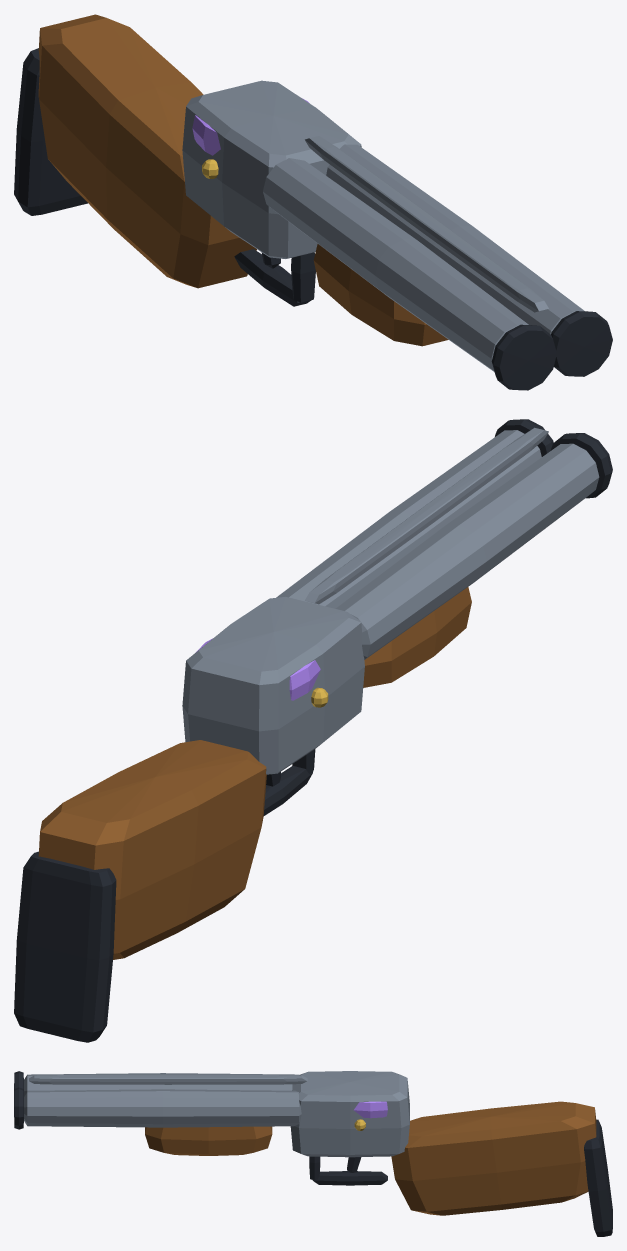
The model's file is g-shotgun-1.glb.
The picture shows the model from 3 angles, top to bottom: view 1: azimuth 30°, elevation 25°; view 2: azimuth 150°, elevation 25°; view 3: azimuth 270°, elevation 25°; orthographic projection. The views are drawn at different scales.
Visible parts, largest first — view 1: gun; view 2: gun; view 3: gun.
Part boxes in pixels (x1=…): gun: x1=14, y1=14, x2=612, y2=390; gun: x1=14, y1=419, x2=612, y2=1042; gun: x1=14, y1=1071, x2=612, y2=1236.
Bounding box in the file's own units: 0.1688 × 0.3317 × 1.18.
